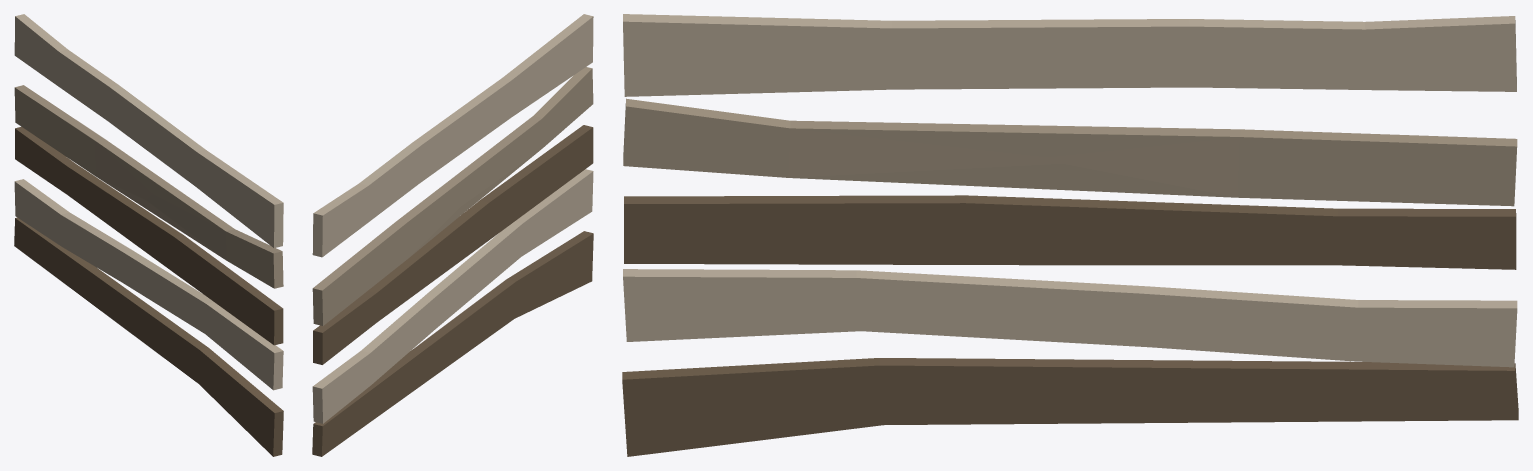
File: Wooden block.fbx
The picture shows the model from 3 angles, left to right: view 1: azimuth 30°, elevation 25°; view 2: azimuth 150°, elevation 25°; view 3: azimuth 270°, elevation 25°; orthographic projection. The views are drawn at different scales.
Visible parts, largest first — view 1: wooden block.004, wooden block.005, Cube.143, wooden block.008, wooden block.003, wooden block.007, wooden block.002, wooden block, wooden block.006, wooden block.001; view 2: wooden block.004, Cube.143, wooden block.008, wooden block.005, wooden block.003, wooden block.002, wooden block.006, wooden block.007, wooden block.001, wooden block; view 3: wooden block.004, Cube.143, wooden block.008, wooden block.005, wooden block.003, wooden block.002, wooden block.007, wooden block, wooden block.006, wooden block.001.
Boxes of the visible parts, x1,y1,x2,y2 form: wooden block.004: (107,85,283,247); wooden block.005: (122,251,283,390); Cube.143: (15,126,183,273); wooden block.008: (14,217,178,363); wooden block.003: (14,85,155,210); wooden block.007: (170,327,283,456); wooden block.002: (146,174,283,288); wooden block: (170,235,283,345); wooden block.006: (14,179,133,282); wooden block.001: (14,14,118,120); wooden block.004: (412,14,593,183); Cube.143: (313,200,491,364); wooden block.008: (312,302,487,456); wooden block.005: (427,169,593,329); wooden block.003: (312,179,466,325); wooden block.002: (451,67,593,213); wooden block.006: (312,293,437,423); wooden block.007: (475,231,593,338); wooden block.001: (312,143,422,257); wooden block: (480,125,593,239); wooden block.004: (623,14,1207,96); Cube.143: (965,195,1516,269); wooden block.008: (970,358,1518,424); wooden block.005: (623,269,1149,347); wooden block.003: (1048,126,1517,206); wooden block.002: (623,98,1064,189); wooden block.007: (622,358,980,456); wooden block: (624,195,982,264); wooden block.006: (1129,286,1517,367); wooden block.001: (1188,16,1516,91).
Bounding box in the file's own units: 0.1229 × 3.13 × 5.83.
